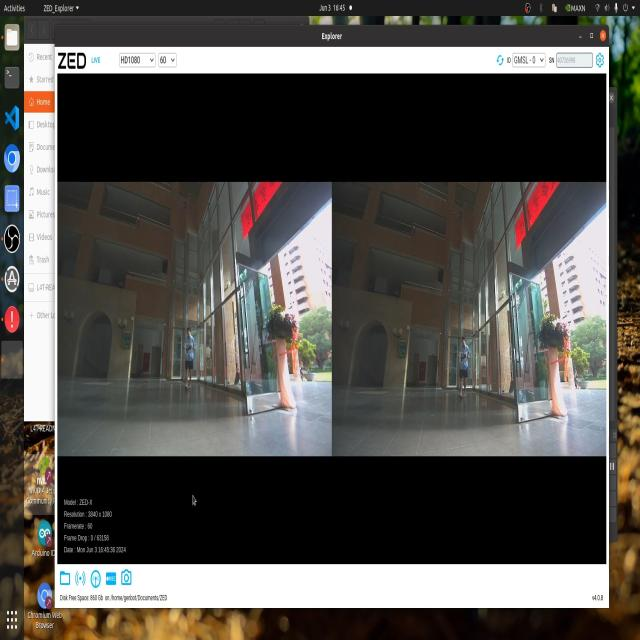blue: (183, 341, 195, 358), (460, 351, 466, 372)
